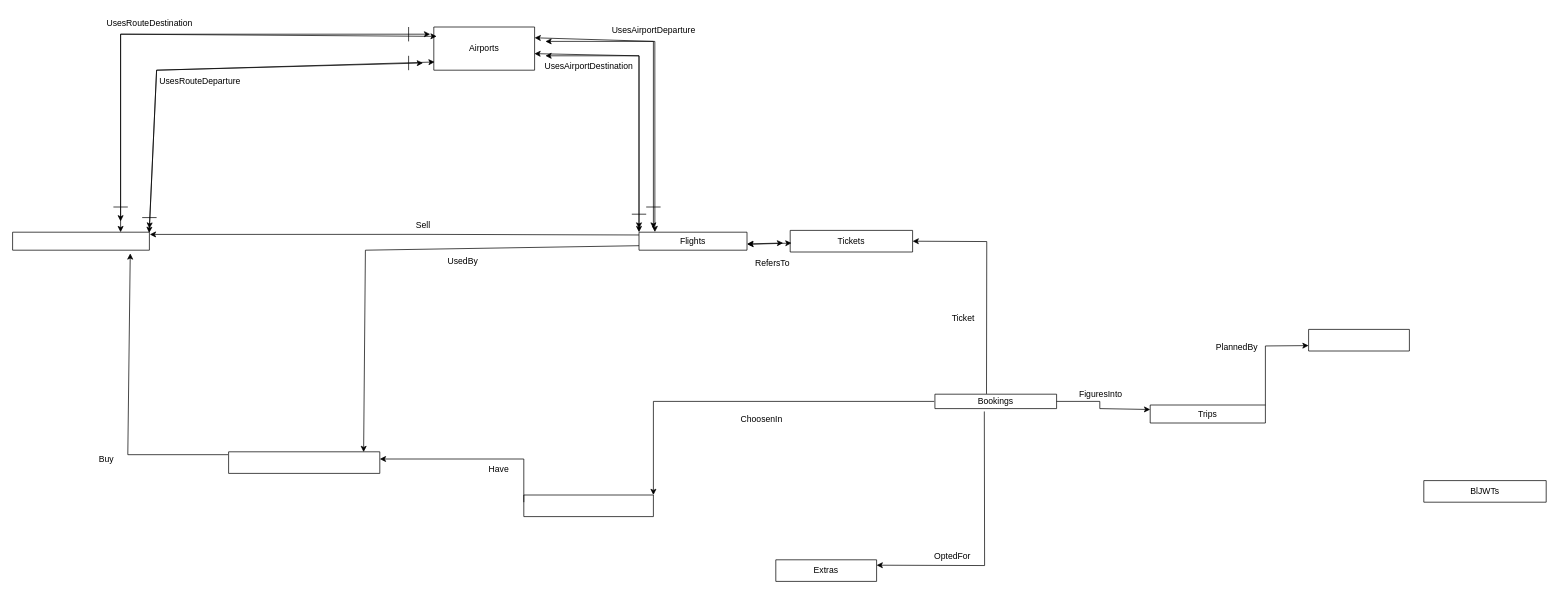
Image size: 1559x594. Some labels were removed from this diagram. The shapes that lost their labels are listed below. From the top down, each one's centre as x and y in pixels, then its label:
the point at 80,240: Airlines
the point at 1358,340: Users
the point at 304,462: Aircrafts
the point at 588,505: Seats
